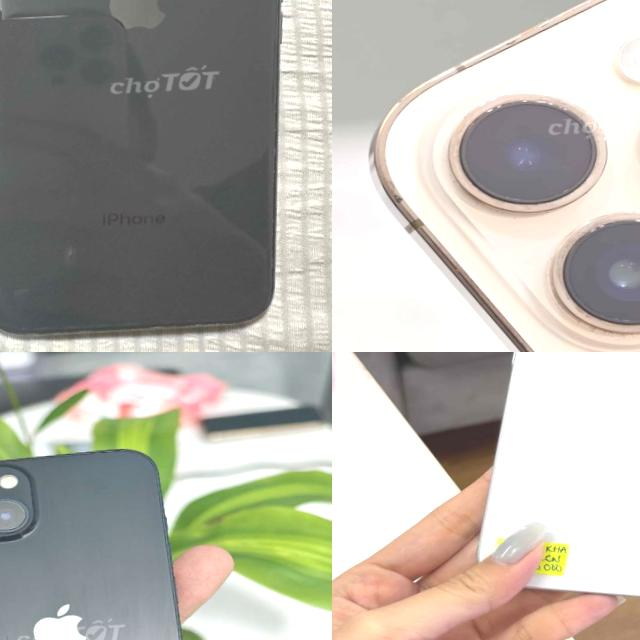gen_12_13: (0, 441, 207, 640)
gen_14: (341, 0, 640, 352)
gen_15: (465, 352, 640, 629)
gen_7_8: (0, 0, 310, 346)
scratch: (114, 308, 246, 336), (0, 47, 7, 207), (47, 246, 89, 268), (1, 280, 30, 296)
